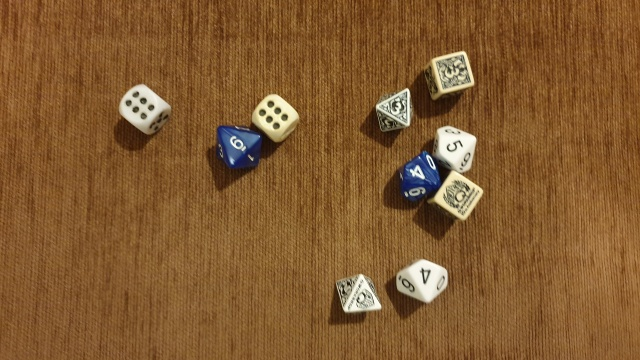d10-4: (389, 255, 455, 307), (390, 148, 439, 204)
d10-5: (426, 119, 482, 173)
d10-6: (205, 119, 265, 172)
d6-6: (110, 80, 184, 141), (246, 92, 301, 143)
d6p-3: (421, 49, 477, 102)
d6p-6: (429, 169, 484, 228)
d8p-3: (370, 84, 418, 139)
d8p-8: (329, 268, 384, 321)
